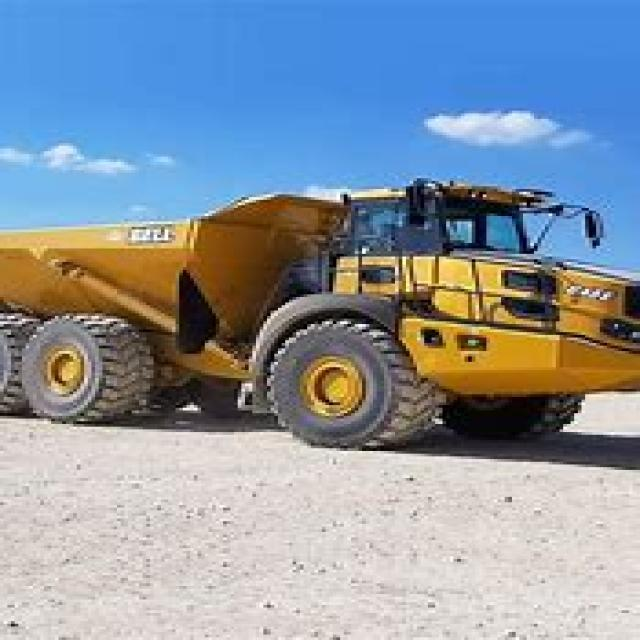dump_truck: (0, 167, 636, 442)
